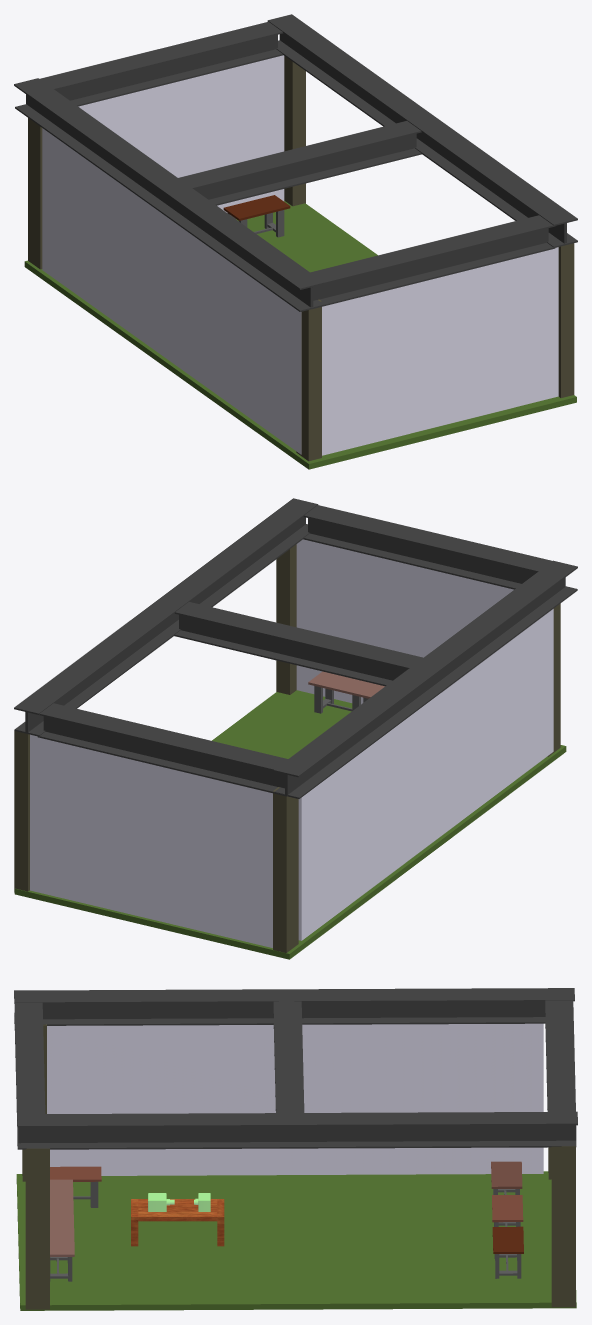
Rendered from Lab_Torsion3.glb.
The picture shows the model from 3 angles, top to bottom: view 1: azimuth 30°, elevation 25°; view 2: azimuth 150°, elevation 25°; view 3: azimuth 270°, elevation 25°; orthographic projection.
Visible parts, largest first — view 1: Vigas_Amarre, Cubo, Cubo.003, Cubo.002, Cubo.001, Cubo.006, Cubo.007, Cubo.004, Cubo.005, Mesa.Lab3; view 2: Vigas_Amarre, Cubo.002, Cubo, Cubo.003, Cubo.001, Cubo.005, Cubo.004, Cubo.007, mesa5, Cubo.006; view 3: Cubo.001, Cubo, Vigas_Amarre, Cubo.004, Cubo.007, mesa_compresion, Mesa.Lab3, mesa2, mesa5, Mesa.Lab1, Mesa.Lab2, mesa4 (+1 smaller).
Boxes of the visible parts, x1,y1,x2,y2 form: Vigas_Amarre: (14,14,577,311); Cubo: (42,128,301,454); Cubo.003: (322,247,558,455); Cubo.002: (78,55,284,212); Cubo.001: (24,201,576,469); Cubo.006: (296,299,321,461); Cubo.007: (558,243,574,397); Cubo.004: (284,56,305,206); Cubo.005: (28,118,42,269); Mesa.Lab3: (223,195,290,237); Vigas_Amarre: (14,498,577,798); Cubo.002: (30,734,272,947); Cubo: (298,609,553,940); Cubo.003: (296,539,513,704); Cubo.001: (14,690,566,959); Cubo.005: (273,787,298,952); Cubo.004: (14,730,29,892); Cubo.007: (276,544,296,694); mesa5: (308,671,374,713); Cubo.006: (547,603,560,756); Cubo.001: (16,1171,576,1310); Cubo: (47,1023,543,1175); Vigas_Amarre: (14,988,577,1149); Cubo.004: (551,1146,575,1307); Cubo.007: (25,1148,49,1309); mesa_compresion: (131,1199,224,1246); Mesa.Lab3: (492,1226,523,1278); mesa2: (50,1166,101,1207); mesa5: (50,1229,74,1281); Mesa.Lab1: (491,1161,522,1194); Mesa.Lab2: (492,1195,523,1226); mesa4: (50,1204,74,1229).
Size of the model in its own units: 10.57 by 6.55 by 18.15.
24 materials, 1 textured.
